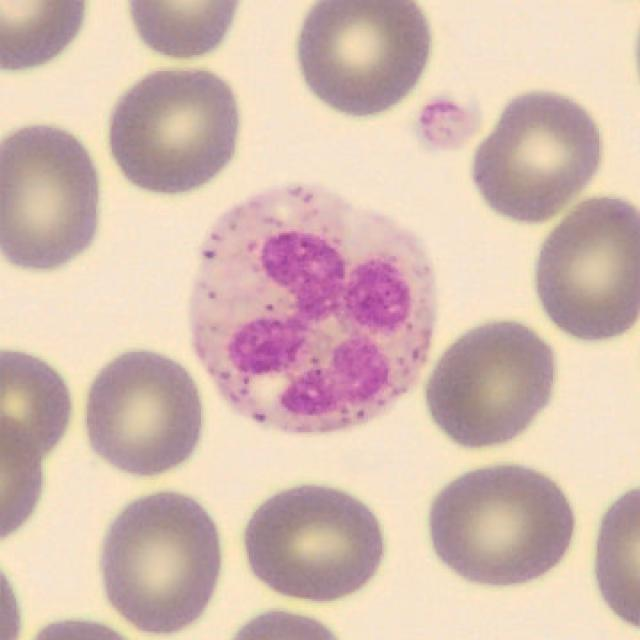Neutrofilo segmentado: (185, 181, 437, 437)
